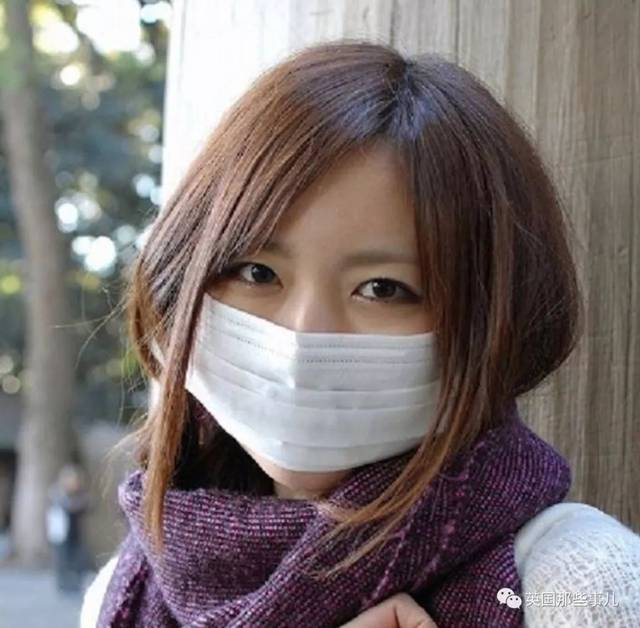mask: (163, 246, 452, 465)
